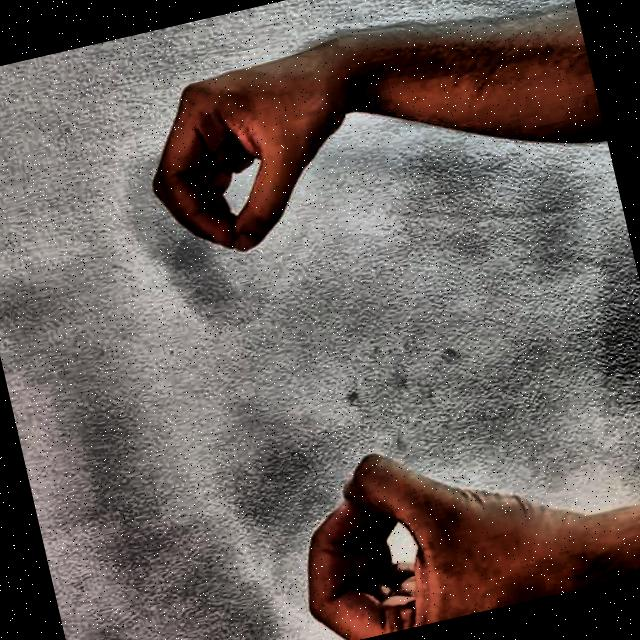Bisharga: (93, 0, 586, 640)
